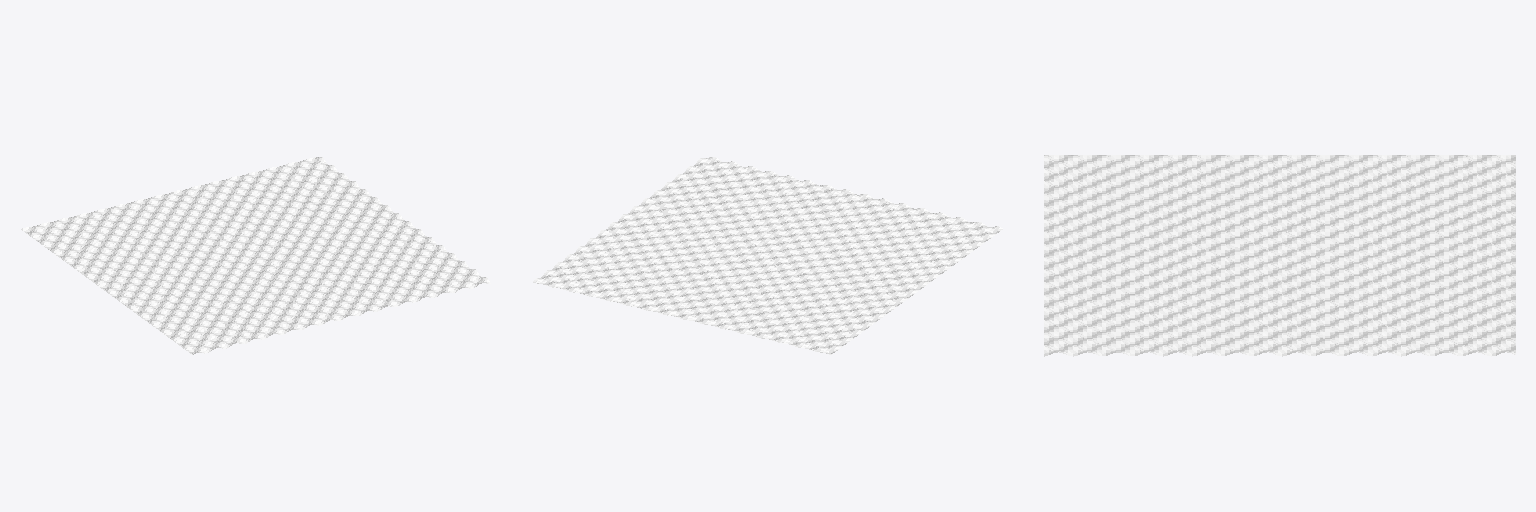
robot.urdf — terrain:
<?xml version="1.0" ?>
<robot name="terrain">
  <link name="terrainLink">
  <contact>
      <lateral_friction value="1"/>
  </contact>
    <inertial>
      <origin rpy="0 0 0" xyz="0 0 0"/>
       <mass value=".0"/>
       <inertia ixx="0" ixy="0" ixz="0" iyy="0" iyz="0" izz="0"/>
    </inertial>
    <visual>
      <origin rpy="0 0 0" xyz="0 0 0"/>
      <geometry>
		<mesh filename="terrain_test.obj" scale="1 1 1"/>
      </geometry>
       <material name="white">
        <color rgba="1 1 1 1"/>
      </material>
    </visual>
		<collision concave="yes">
      <origin rpy="0 0 0" xyz="0 0 -0.3"/>
      <geometry>
		<mesh filename="terrain_test.obj" scale="1 1 1"/>
      </geometry>
    </collision>
  </link>
</robot>

--- Render facts (derived) ---
3 views of the same robot in one strip: view 1: azimuth 30°, elevation 25°; view 2: azimuth 150°, elevation 25°; view 3: azimuth 270°, elevation 25° (orthographic).
Model terrain with 1 links and 0 joints (none), rooted at terrainLink, posed all joints at 0.
Visible links, largest first — view 1: terrainLink; view 2: terrainLink; view 3: terrainLink.
Link boxes in pixels (x1=…): terrainLink: x1=21, y1=157, x2=490, y2=354; terrainLink: x1=533, y1=157, x2=1002, y2=354; terrainLink: x1=1044, y1=155, x2=1515, y2=356.
Bounding box of the posed robot: 99 × 99 × 1 m (x, y, z).
1 mesh visuals loaded from 1 distinct referenced files (1 OBJ).